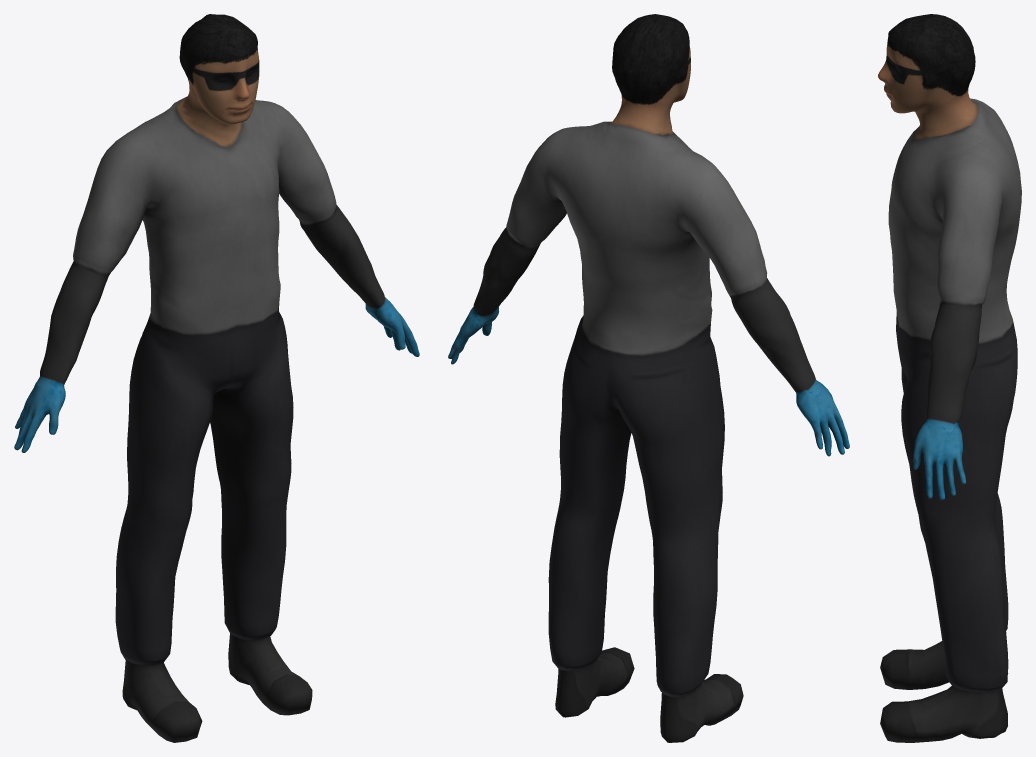
File: Personaje_taller.fbx
3 views of the same model, side by side, from view 1: azimuth 30°, elevation 25°; view 2: azimuth 150°, elevation 25°; view 3: azimuth 270°, elevation 25° (orthographic).
Parts seen in each view (by area): view 1: Personaje_taller; view 2: Personaje_taller; view 3: Personaje_taller.
Part boxes in pixels (<box>): Personaje_taller: <box>14,14,419,742</box>; Personaje_taller: <box>448,14,849,742</box>; Personaje_taller: <box>878,14,1021,742</box>.
Size of the model in its own units: 4.85 by 8.06 by 1.52.
Materials: 1 (1 with a texture image).
